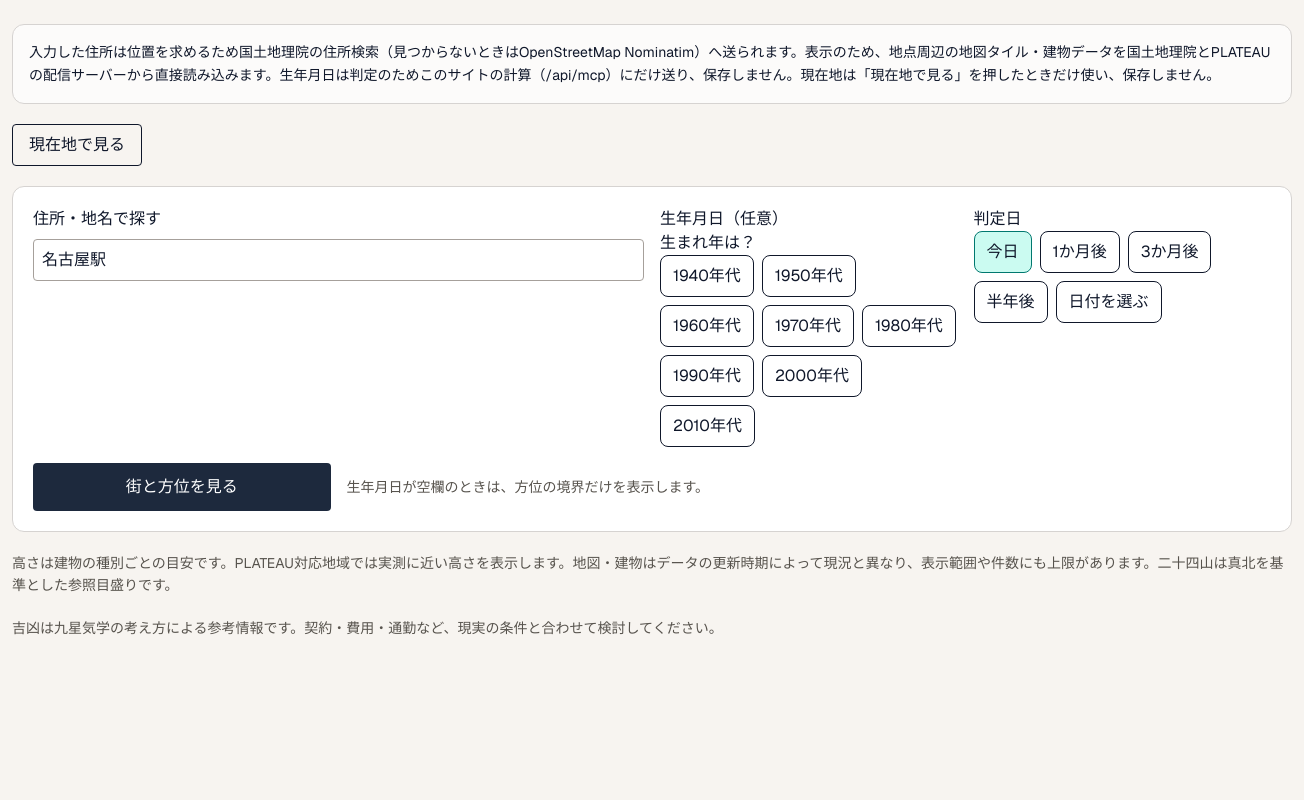
街の表示を入力せずに始める › 既存のqから住所検索でき、URLを書き換えない
Click the button "街と方位を見る" at (182,486), box [33,462,330,510]
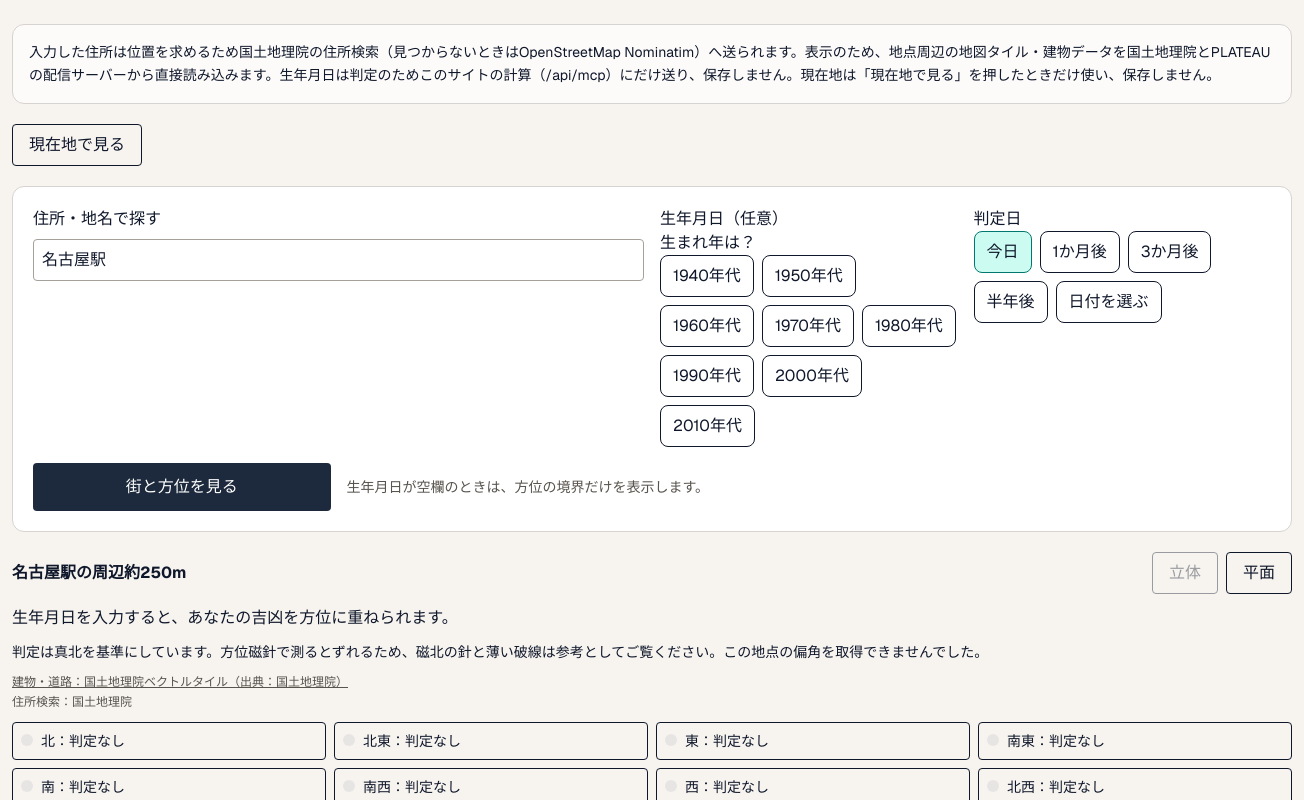
Expected: the heading "名古屋駅の周辺" is shown, [12,560,186,584]
